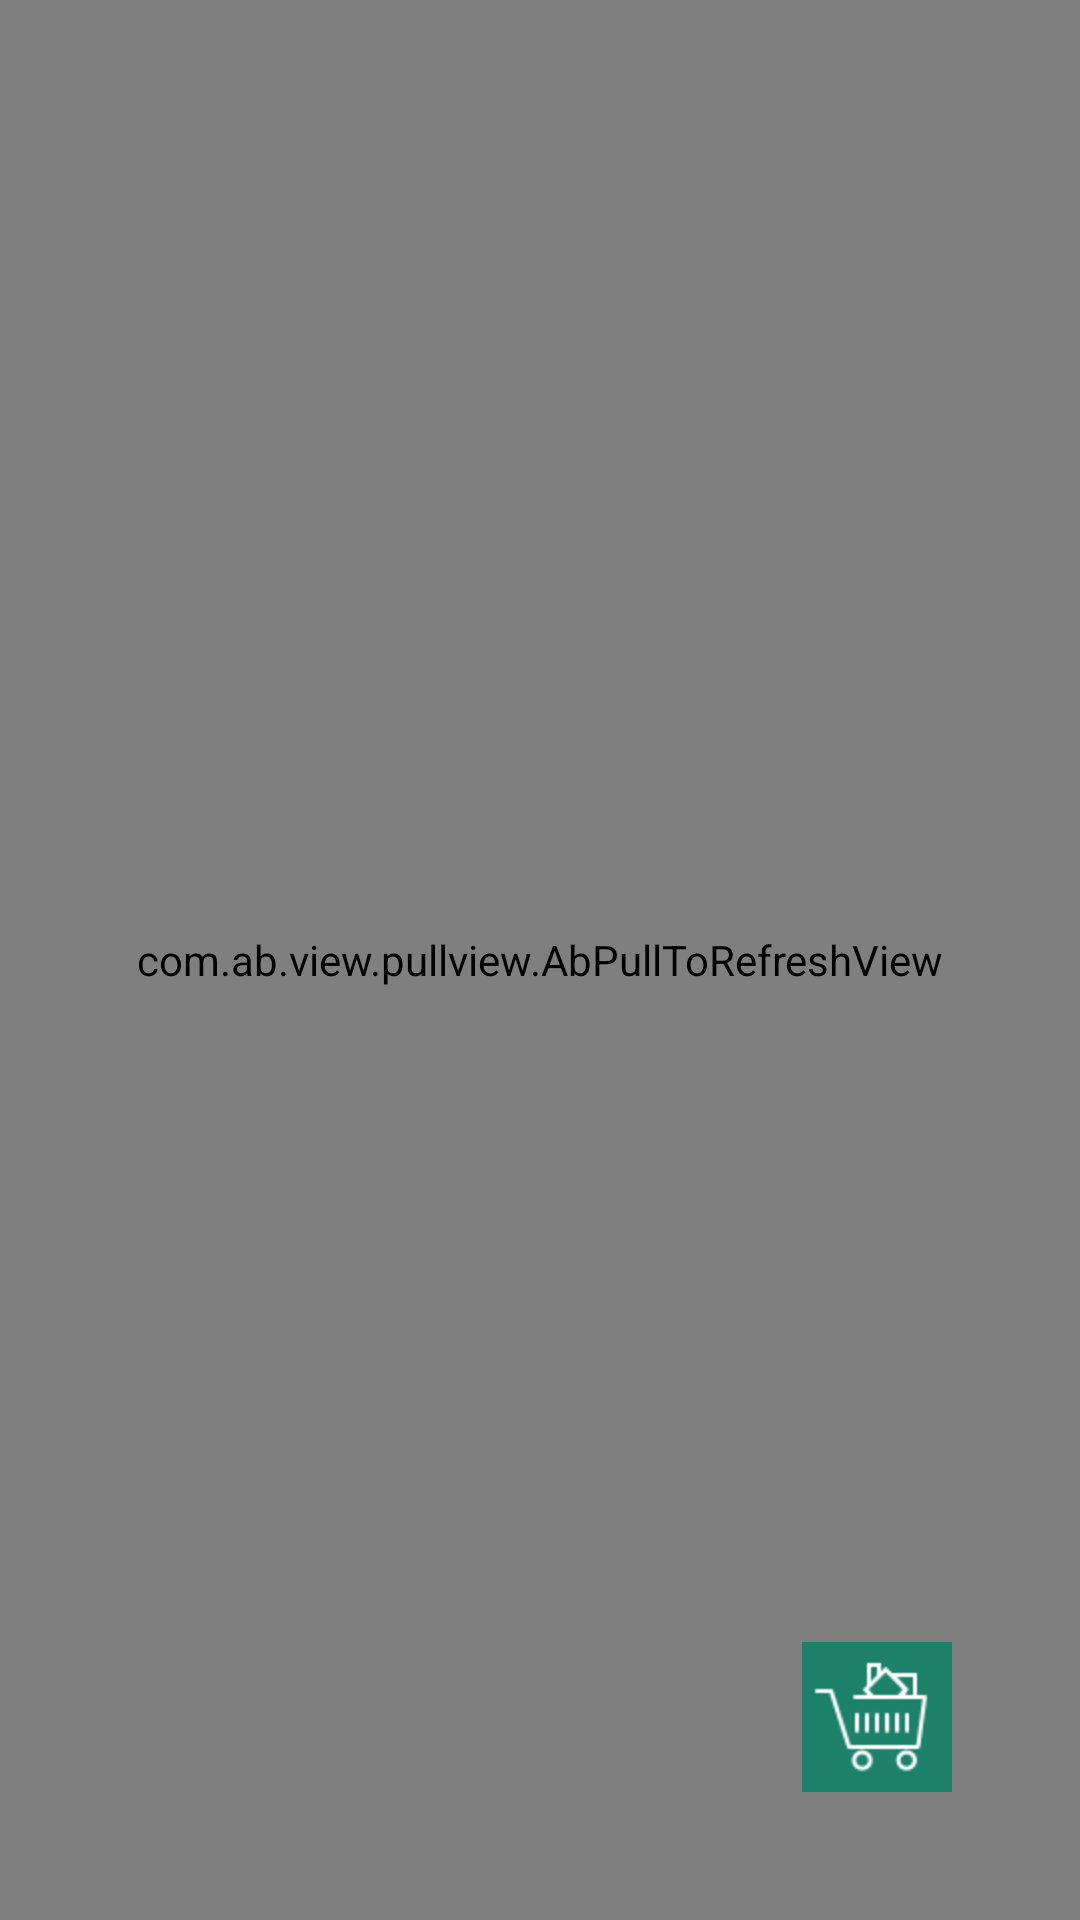

Where icons sit on this 1080×1920 app screen, as region(x1, y1, x2, y2):
shoppingcar: region(802, 1642, 952, 1792)
